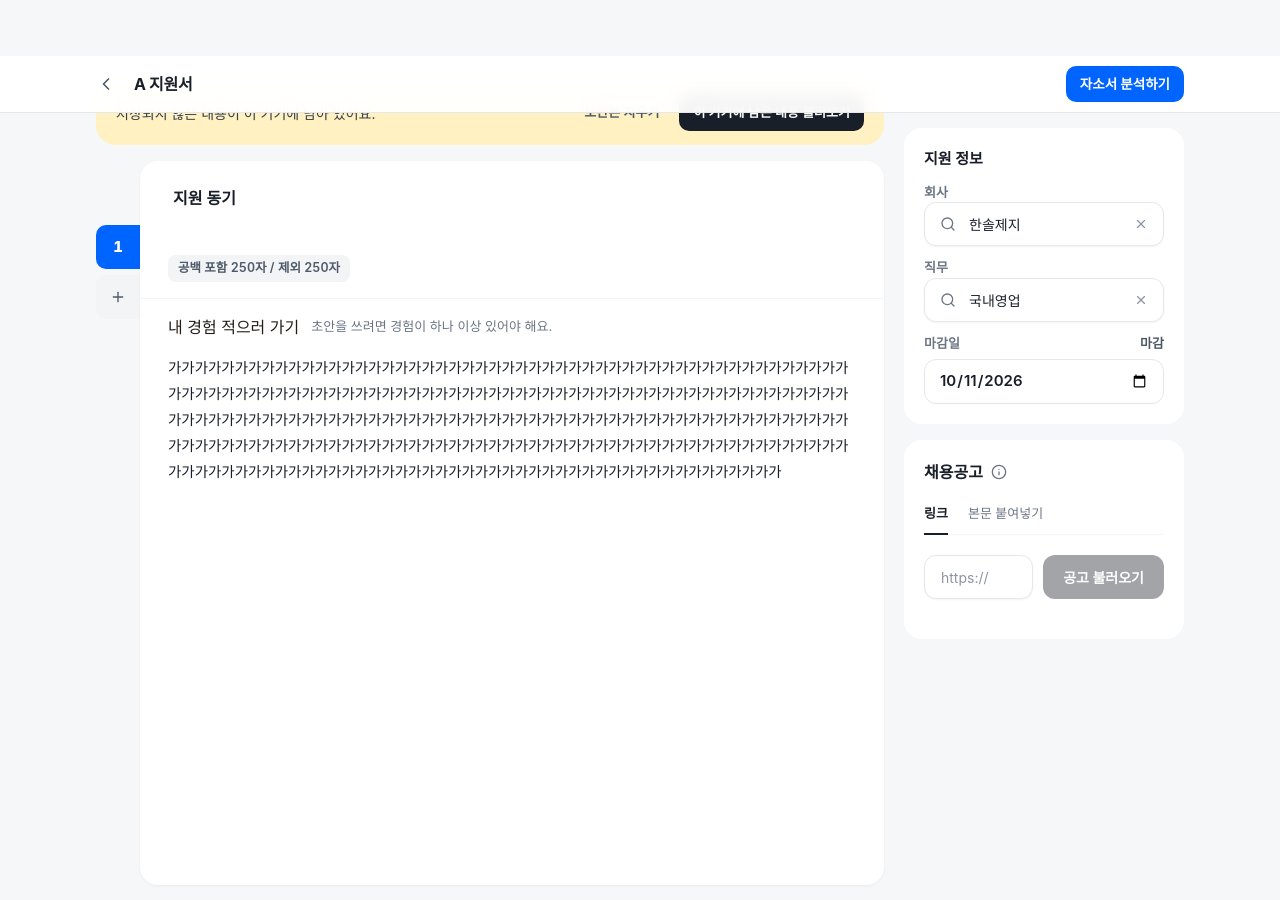
Test: 작업 화면 › 이 기기 임시 보관 › 서버 내용과 다른 보관본이 있으면 불러올 수 있다
Click the button "이 기기에 남은 내용 불러오기" at (772, 113), box 679,95 -> 864,131
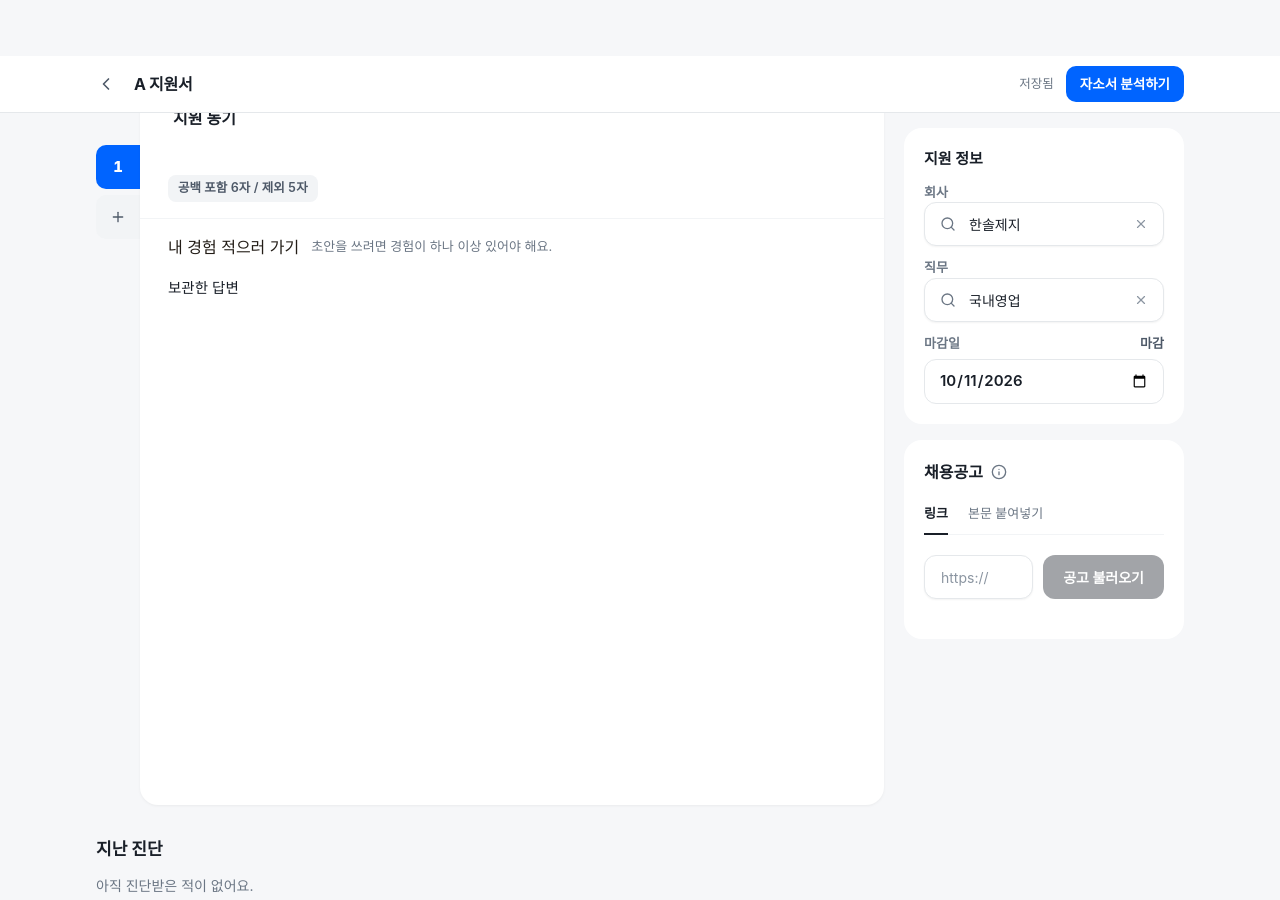
Expected: the text box showing "보관한 답변" is shown, 140,259 -> 884,805
Expected: the button "이 기기에 남은 내용 불러오기" is gone
